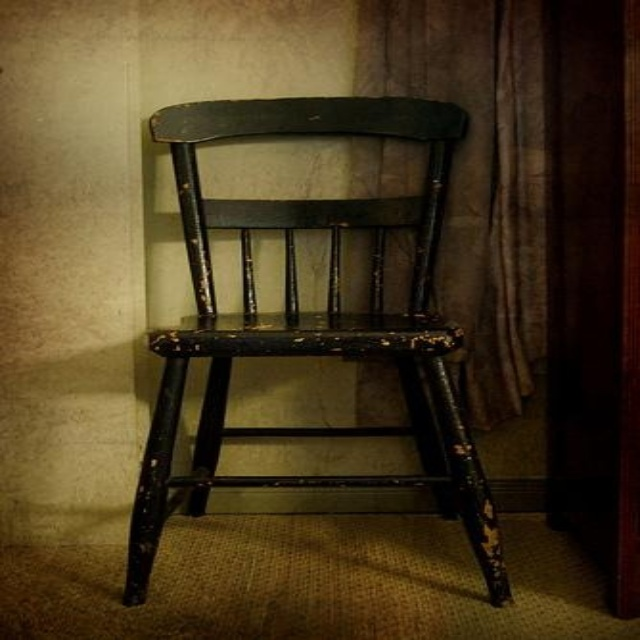obstacle: (123, 97, 510, 605)
